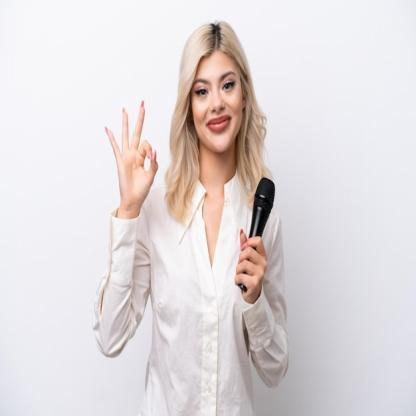ok: (101, 98, 164, 216)
